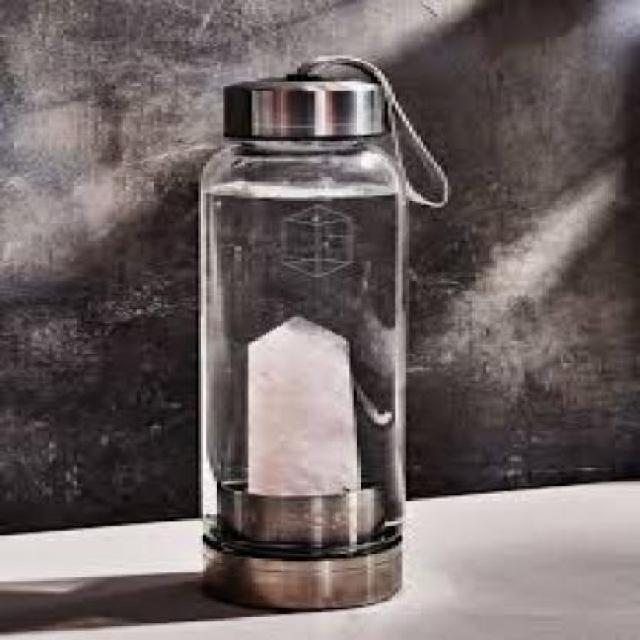Drinking: (144, 42, 441, 615)
